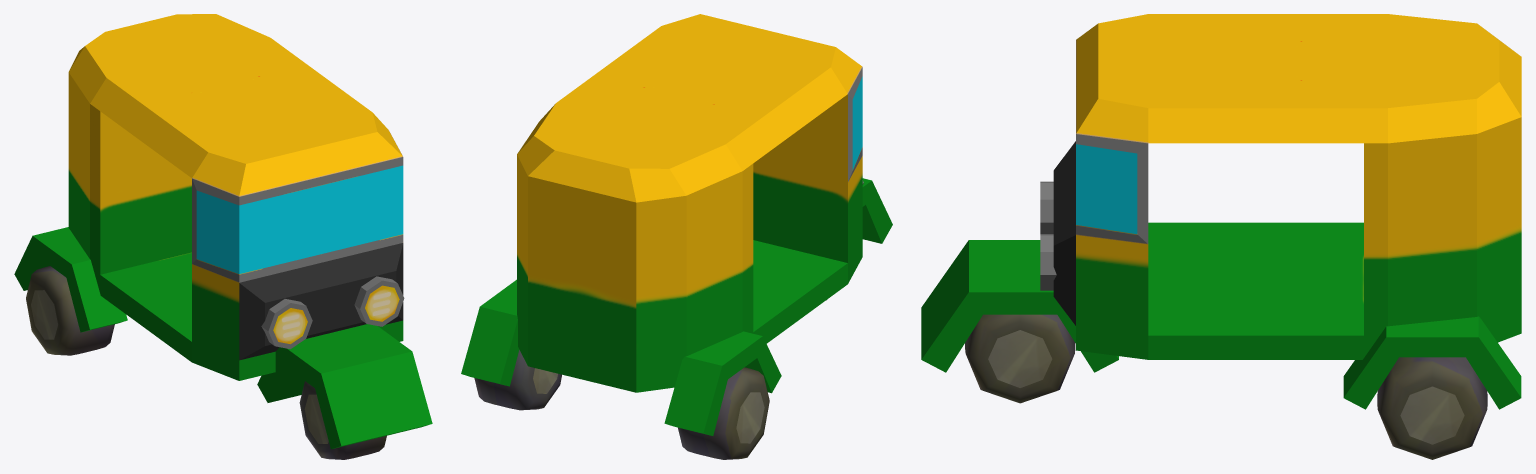
Rendered from Car02.fbx.
3 renders of one model, left to right at view 1: azimuth 30°, elevation 25°; view 2: azimuth 150°, elevation 25°; view 3: azimuth 270°, elevation 25°, orthographic. The views are drawn at different scales.
Visible parts, largest first — view 1: Body, Cover, TireBack, Light, TireFront; view 2: Body, Cover, TireBack; view 3: Body, Cover, TireBack, TireFront, Light.
Part boxes in pixels (box(x1,y1,x2,y2)): Body: box(68, 14, 403, 380); Cover: box(14, 227, 432, 449); TireBack: box(26, 266, 114, 355); Light: box(261, 276, 404, 349); TireFront: box(299, 381, 386, 459); Body: box(517, 14, 862, 392); Cover: box(461, 178, 892, 435); TireBack: box(474, 350, 769, 459); Body: box(1053, 14, 1521, 359); Cover: box(921, 240, 1521, 409); TireBack: box(1377, 357, 1487, 459); TireFront: box(965, 314, 1075, 403); Light: box(1040, 181, 1056, 290).
Size of the model in its own units: 1.52 by 1.65 by 2.69.
2 materials, 1 textured.
